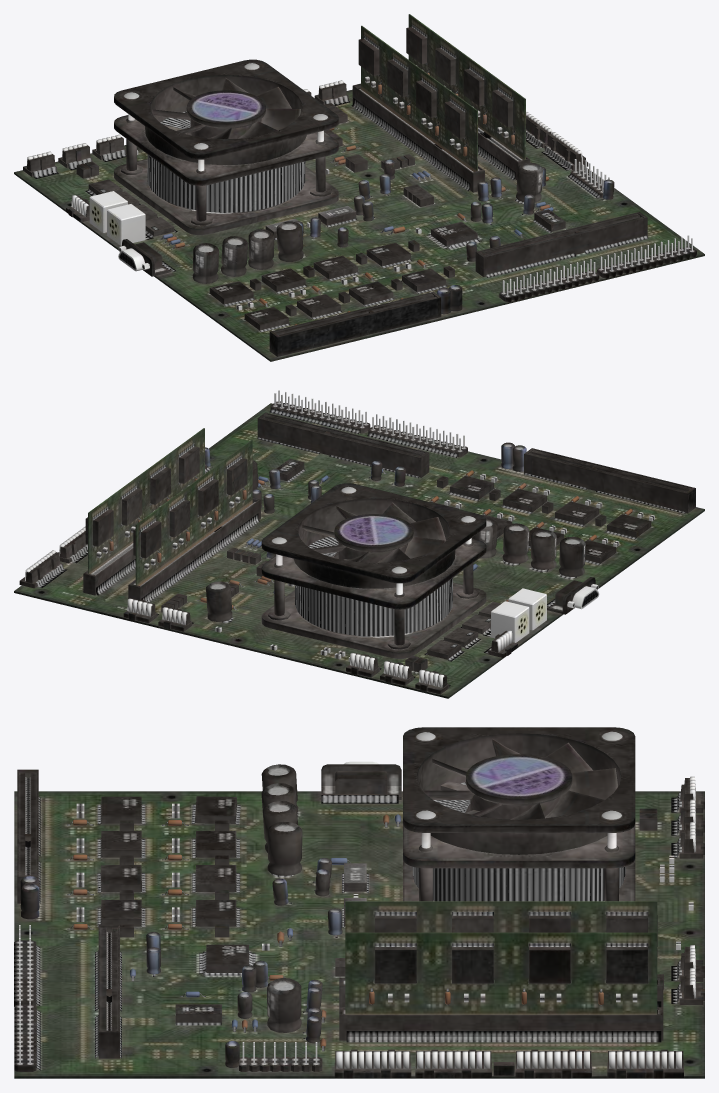
Rendered from circuit_board.glb.
3 renders of one model, top to bottom at view 1: azimuth 30°, elevation 25°; view 2: azimuth 150°, elevation 25°; view 3: azimuth 270°, elevation 25°, orthographic. The views are drawn at different scales.
Visible parts, largest first — view 1: circuit_board; view 2: circuit_board; view 3: circuit_board.
Boxes of the visible parts, x1,y1,x2,y2 form: circuit_board: (14, 14, 704, 361); circuit_board: (14, 390, 704, 698); circuit_board: (14, 727, 704, 1078).
Bounding box in the file's own units: 0.4035 × 0.0783 × 0.3974.
Materials: 2 (2 with a texture image).
